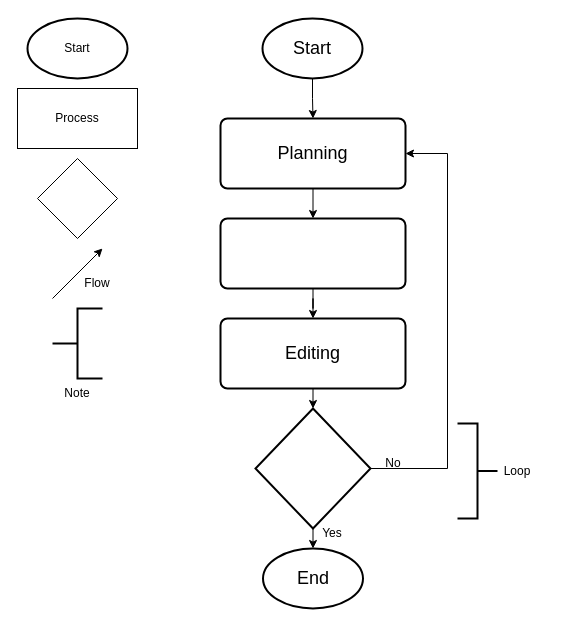
The diagram is 565 pixels wide and 626 high, and some of its shapes have lost their labels. Each missing label, with the box of its shape:
Decision: (36, 158, 118, 238)
Development: (219, 217, 406, 289)
It is done?: (254, 407, 371, 529)
